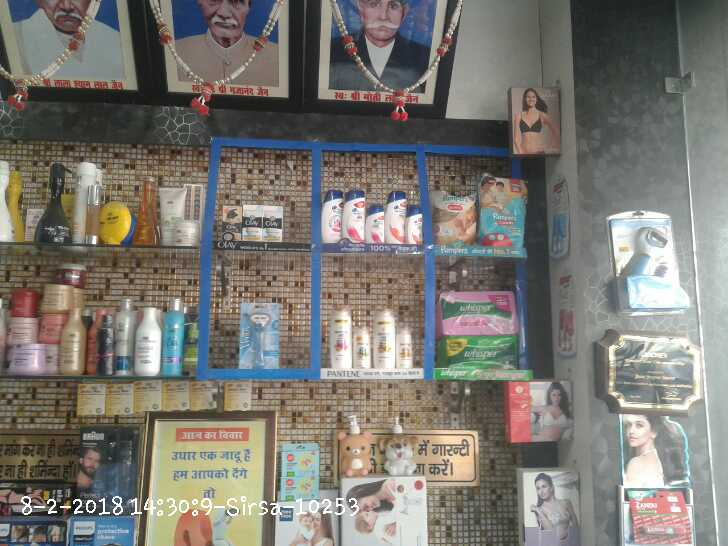venus: (238, 304, 282, 368)
